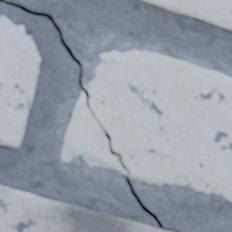brick: (0, 185, 167, 231), (0, 15, 41, 147), (140, 0, 231, 30)
broken_brick: (84, 50, 231, 201), (61, 92, 126, 174)
crack: (0, 0, 179, 231)
